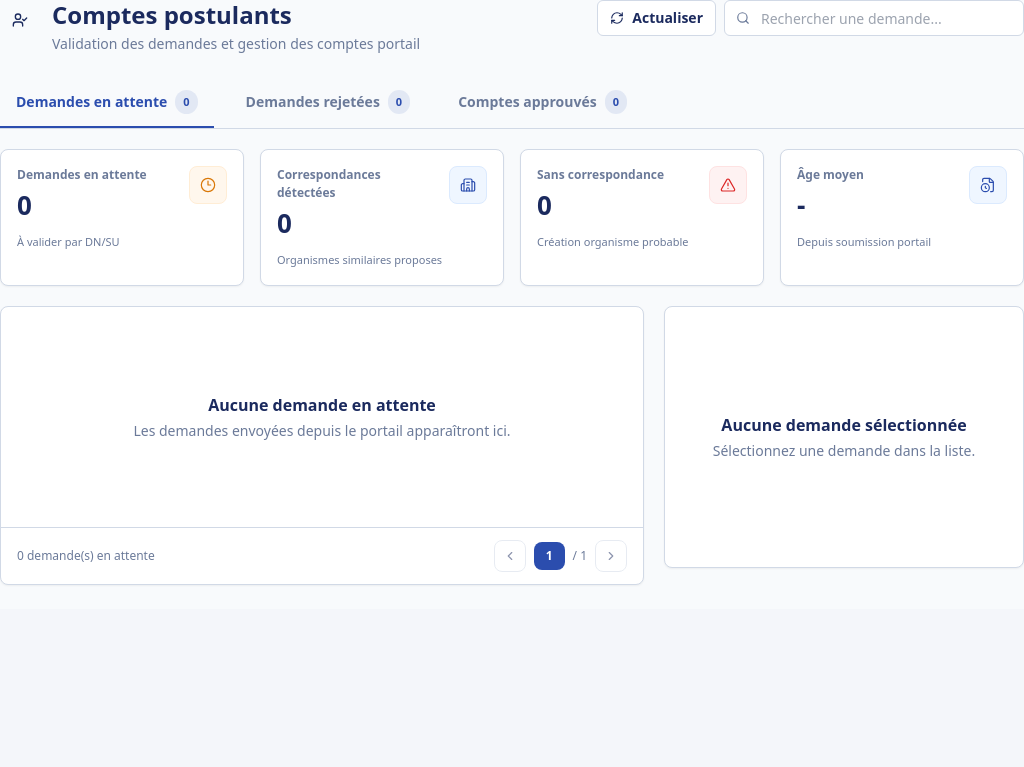
Test case: <AccountRequestsPage> password reset (ACCOUNT-V2) › an API error shows the message and never a password
Click the button "Comptes approuvés 0".
click(543, 103)  # box [442,78,643,128]
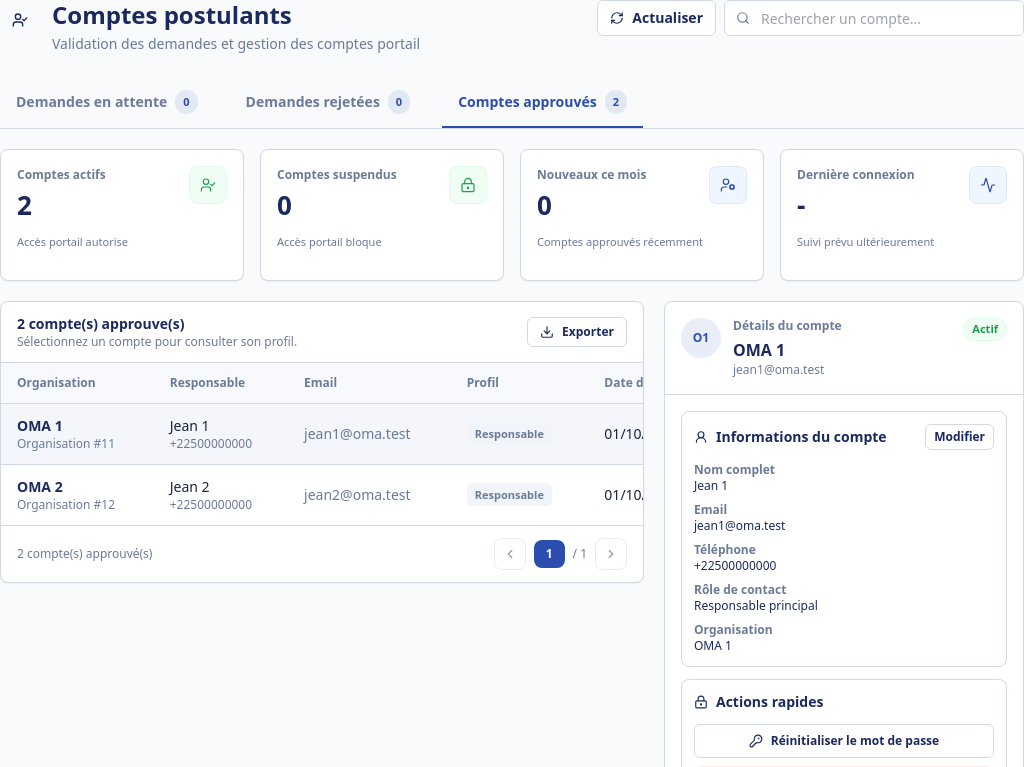
Click the button "Réinitialiser le mot de passe".
click(844, 741)  # box [694,724,994,758]
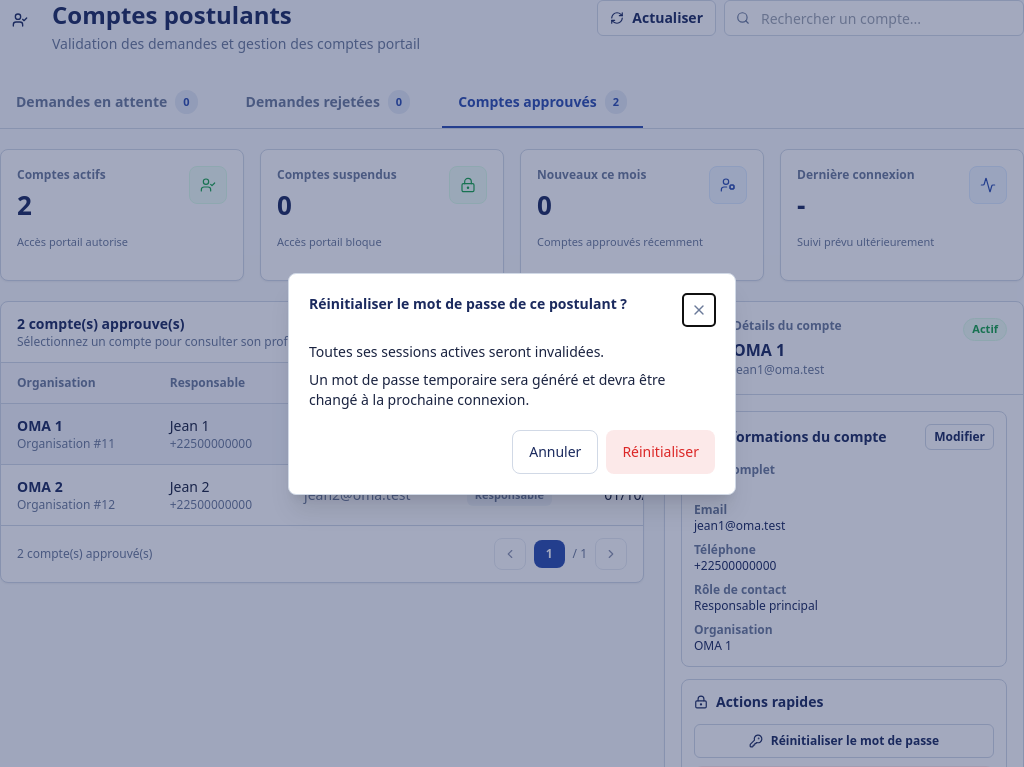
Click the button "Réinitialiser".
click(661, 452)  # box [606,430,715,474]
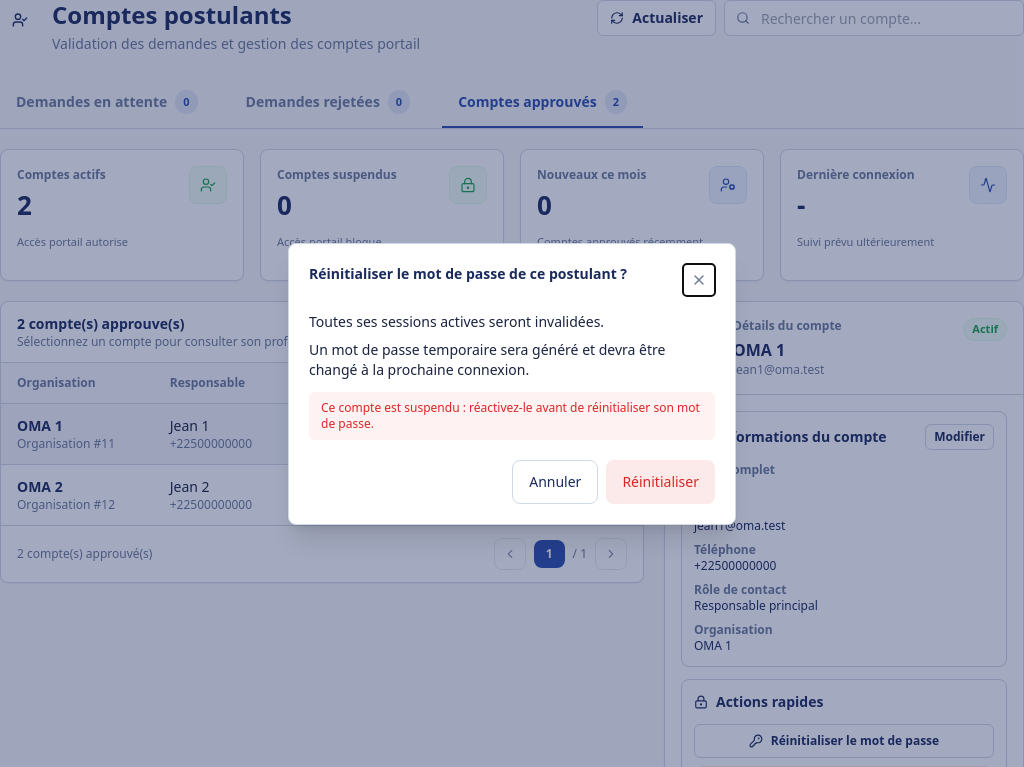
Expected: the message shows "Ce compte est suspendu", [321,399,700,432]
